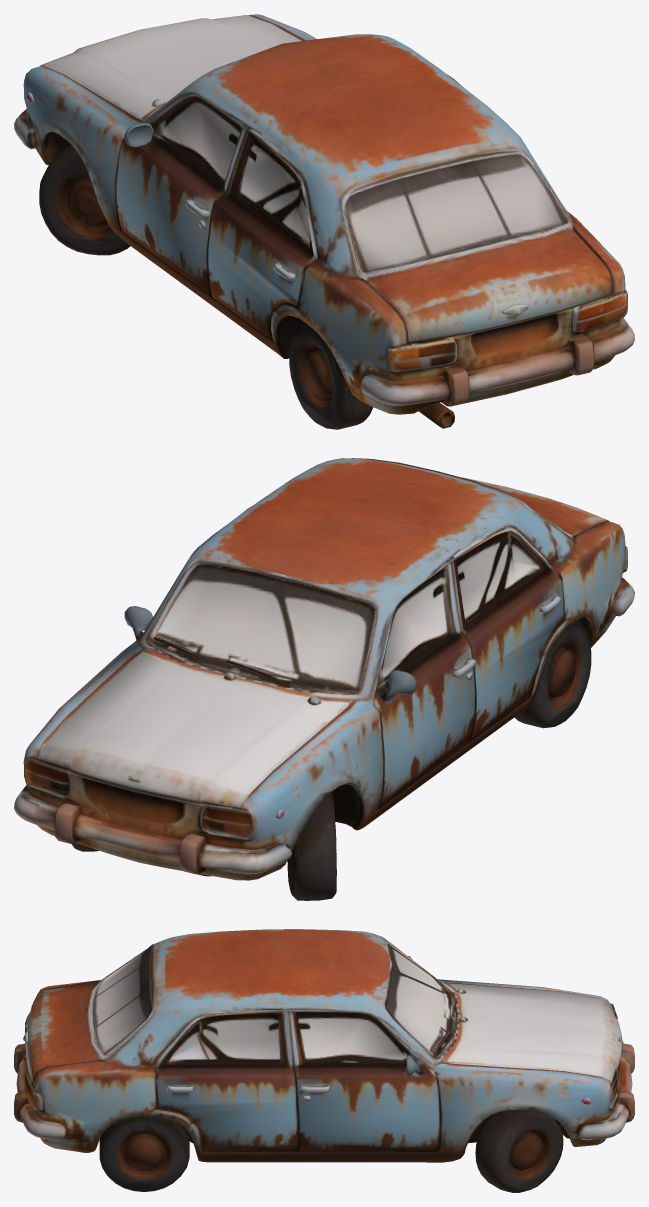
Rendered from rusty_car_a9d09db5_v1.glb.
The picture shows the model from 3 angles, top to bottom: view 1: azimuth 30°, elevation 25°; view 2: azimuth 150°, elevation 25°; view 3: azimuth 270°, elevation 25°; orthographic projection. The views are drawn at different scales.
Visible parts, largest first — view 1: material; view 2: material; view 3: material.
Part boxes in pixels (x1,y1,x2,y2): material: (14,14,634,429); material: (14,458,634,900); material: (14,929,634,1192).
Size of the model in its own units: 0.8104 by 0.6405 by 1.9.
1 material, 1 textured.
